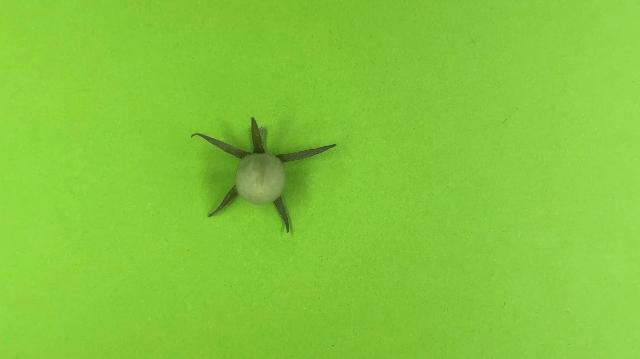Fruit Maturation: (235, 152, 287, 205)
